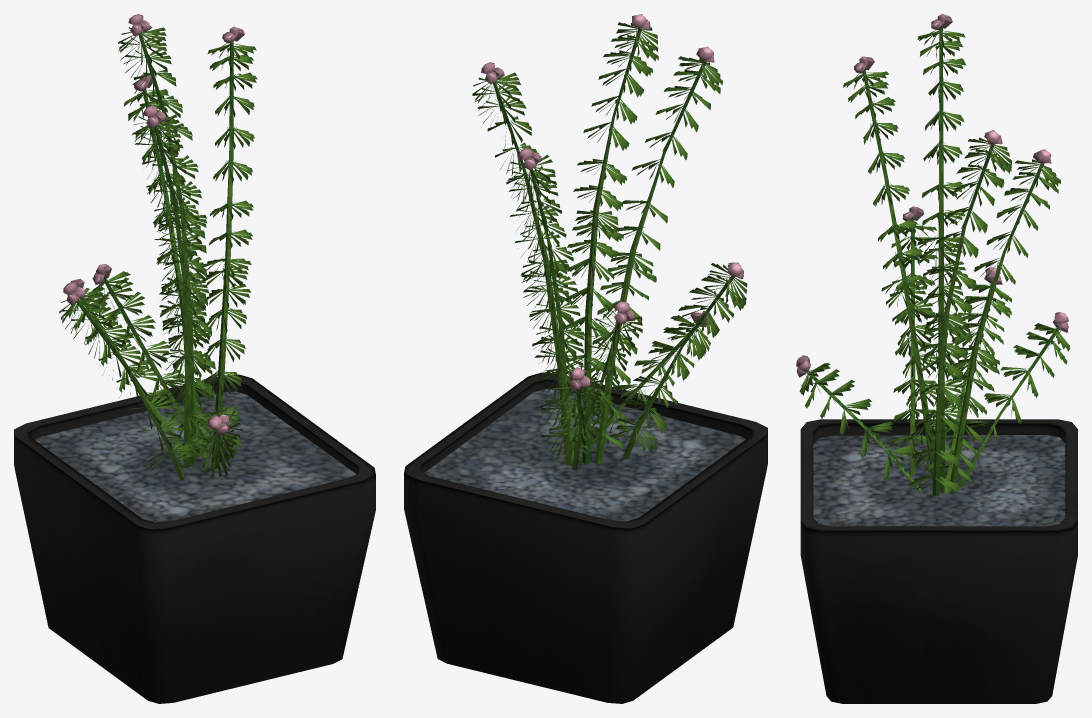
Rendered from Abalsamea.FBX.
The picture shows the model from 3 angles, left to right: view 1: azimuth 30°, elevation 25°; view 2: azimuth 150°, elevation 25°; view 3: azimuth 270°, elevation 25°; orthographic projection. The views are drawn at different scales.
Visible parts, largest first — view 1: Pot7, Abalsamea2Mesh, Soil7; view 2: Pot7, Abalsamea2Mesh, Soil7; view 3: Pot7, Abalsamea2Mesh, Soil7.
Boxes of the visible parts, bbox=[...] form: Pot7: bbox=[14, 374, 375, 703]; Abalsamea2Mesh: bbox=[59, 14, 257, 480]; Soil7: bbox=[35, 391, 356, 522]; Pot7: bbox=[404, 372, 767, 703]; Abalsamea2Mesh: bbox=[472, 14, 747, 470]; Soil7: bbox=[424, 389, 745, 521]; Pot7: bbox=[800, 419, 1077, 703]; Abalsamea2Mesh: bbox=[796, 14, 1070, 495]; Soil7: bbox=[813, 435, 1065, 526].
Bounding box in the file's own units: 15.13 × 34.77 × 14.38.
1 material, 1 textured.
